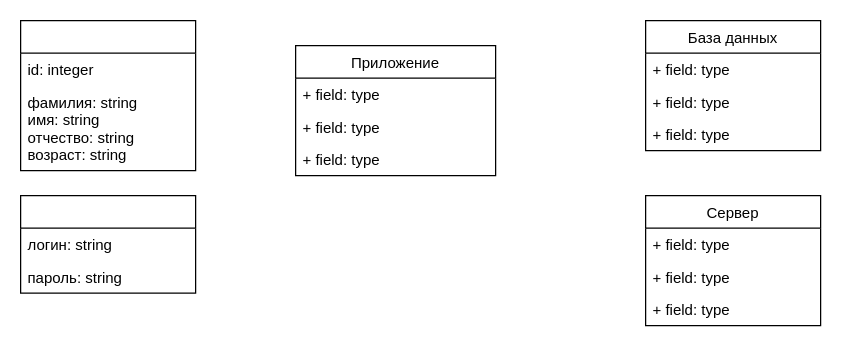
Image size: 841x346. Some labels were removed from this diagram. The box of each missing label's shape, as (x1, y1, x2, y2) in pixels:
Психолог: (19, 194, 196, 293)
Тестируемый: (19, 19, 196, 171)
